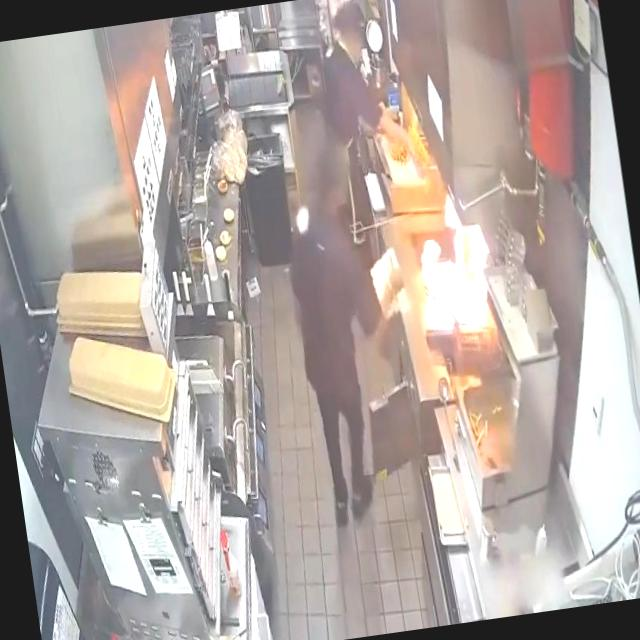fire: (408, 218, 489, 338)
